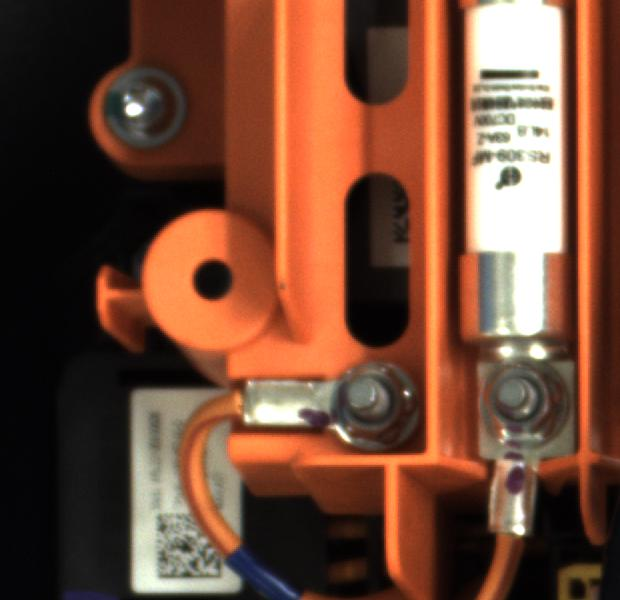screw_m: (98, 61, 198, 159)
screw_s: (317, 356, 419, 458), (468, 351, 569, 453)
